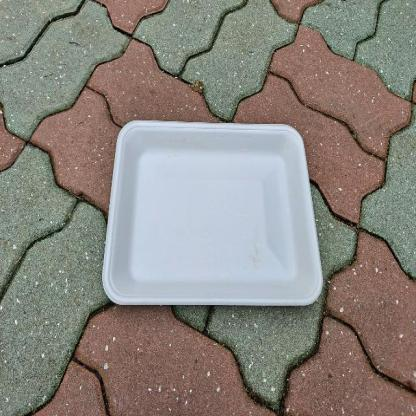Glass Cup: (101, 119, 324, 306), (102, 120, 323, 306)
